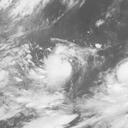cyclone: (32, 43, 77, 88)
